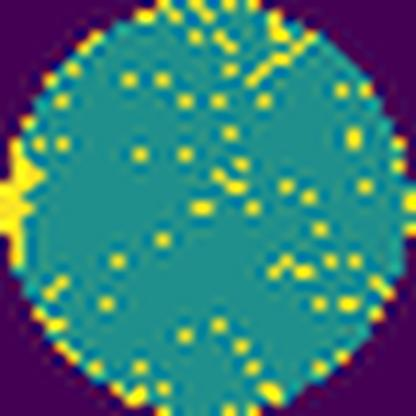Edge-Loc: (0, 133, 51, 273)
